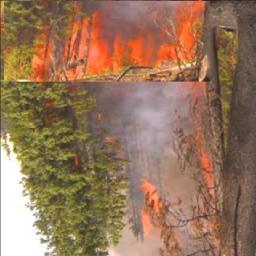Low smoke: (78, 82, 219, 255)
Small fire: (18, 0, 210, 83)
